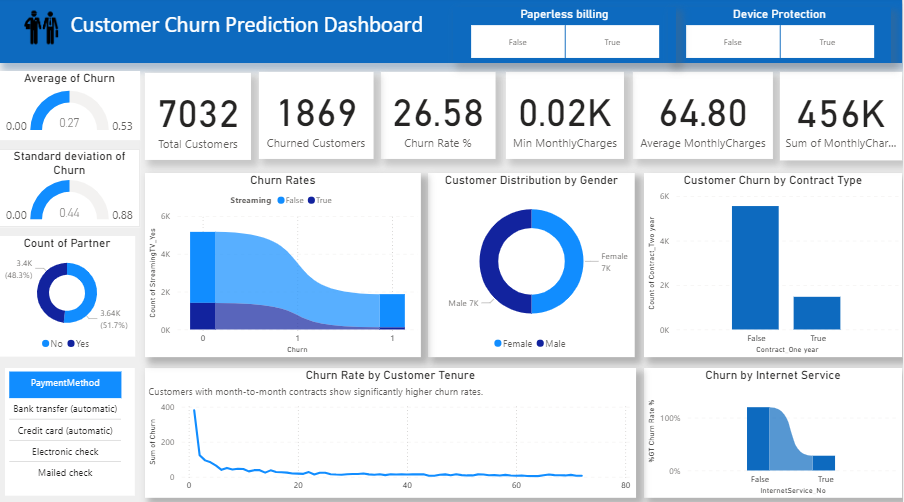

The page's visual inventory and layout, read from the dashboard file:
{"tool":"powerbi","page":{"name":"Page 2","canvas":[1280,720],"ordinal":0},"visuals":[{"type":"shape","box":[0,0,1279.8,93.5],"z":0},{"type":"card","fields":{"Values":["cleaned_churn_data.Churn Rate %"]},"box":[541.4,106.3,161.6,123.3],"z":1000},{"type":"card","fields":{"Values":["Avg(cleaned_churn_data.MonthlyCharges)"]},"box":[898.6,106.3,198.4,123.3],"z":2000},{"type":"card","fields":{"Values":["cleaned_churn_data.Total Customers"]},"box":[206.9,107.7,150.2,123.3],"z":3000},{"type":"card","fields":{"Values":["Sum(cleaned_churn_data.Churn)"]},"box":[369.2,106.5,161.7,123.3],"z":4000},{"type":"donutChart","title":"Customer Distribution by Gender","fields":{"Y":["cleaned_churn_data.Total Customers"],"Category":["WA_Fn-UseC_-Telco-Customer-Churn.gender"]},"box":[608,249.4,293.4,260.8],"z":5000},{"type":"lineClusteredColumnComboChart","title":"Customer Churn by Contract Type","fields":{"Category":["cleaned_churn_data.Contract_One year"],"Y":["CountNonNull(cleaned_churn_data.Contract_Two year)"]},"box":[914.2,249.4,365.7,260.8],"z":6000},{"type":"ribbonChart","title":"Churn by Internet Service","fields":{"Category":["cleaned_churn_data.InternetService_No"],"Y":["cleaned_churn_data.Churn Rate %"]},"box":[914.2,525.8,365.7,184.3],"z":7000},{"type":"lineChart","title":"Churn Rate by Customer Tenure","fields":{"Category":["cleaned_churn_data.tenure"],"Y":["Sum(cleaned_churn_data.Churn)"]},"box":[206.9,525.8,695.9,184.3],"z":8000},{"type":"ribbonChart","title":"Churn Rates","fields":{"Category":["cleaned_churn_data.Churn"],"Series":["cleaned_churn_data.StreamingMovies_No internet service"],"Y":["CountNonNull(cleaned_churn_data.StreamingTV_Yes)"]},"box":[206.9,249.4,391.2,260.8],"z":9000},{"type":"card","fields":{"Values":["Sum(cleaned_churn_data.MonthlyCharges)"]},"box":[1106.9,106.3,172.9,124.7],"z":10000},{"type":"card","fields":{"Values":["Min(cleaned_churn_data.MonthlyCharges)"]},"box":[718.6,106.3,167.2,123.3],"z":11000},{"type":"gauge","fields":{"Y":["Avg(cleaned_churn_data.Churn)"]},"box":[0,104.9,199.8,97.8],"z":12000},{"type":"gauge","fields":{"Y":["Sum(cleaned_churn_data.Churn)"]},"box":[0,215.4,199.8,110.6],"z":13000},{"type":"slicer","title":"Device Protection ","fields":{"Values":["cleaned_churn_data.DeviceProtection_Yes"]},"box":[948.2,14.2,316.1,79.4],"z":14000},{"type":"slicer","title":"Paperless billing","fields":{"Values":["cleaned_churn_data.PaperlessBilling_Yes"]},"box":[643.5,14.2,316.1,79.4],"z":15000},{"type":"textbox","box":[96.4,14.2,606.6,58.1],"z":16000},{"type":"image","box":[19.8,14.2,80.8,58.1],"z":17000},{"type":"tableEx","fields":{"Values":["WA_Fn-UseC_-Telco-Customer-Churn.PaymentMethod"]},"box":[8.5,525.8,184.3,181.4],"z":19000},{"type":"donutChart","title":"Count of Partner ","fields":{"Category":["WA_Fn-UseC_-Telco-Customer-Churn.Partner"],"Y":["CountNonNull(WA_Fn-UseC_-Telco-Customer-Churn.Partner)"]},"box":[0,338.7,192.8,171.5],"z":19002}]}

Visuals, with their boxes in screenshot pixels (x1, y1, x2, y2), scaled from the page's 1280x720 canvas onto the 904x502 screenshot:
shape: <region>0, 0, 903, 65</region>
card - cleaned_churn_data.Churn Rate %: <region>382, 74, 496, 160</region>
card - Avg(cleaned_churn_data.MonthlyCharges): <region>635, 74, 775, 160</region>
card - cleaned_churn_data.Total Customers: <region>146, 75, 252, 161</region>
card - Sum(cleaned_churn_data.Churn): <region>261, 74, 375, 160</region>
"Customer Distribution by Gender" donutChart: <region>429, 174, 637, 356</region>
"Customer Churn by Contract Type" lineClusteredColumnComboChart: <region>646, 174, 903, 356</region>
"Churn by Internet Service" ribbonChart: <region>646, 367, 903, 495</region>
"Churn Rate by Customer Tenure" lineChart: <region>146, 367, 638, 495</region>
"Churn Rates" ribbonChart: <region>146, 174, 422, 356</region>
card - Sum(cleaned_churn_data.MonthlyCharges): <region>782, 74, 903, 161</region>
card - Min(cleaned_churn_data.MonthlyCharges): <region>508, 74, 626, 160</region>
gauge - Avg(cleaned_churn_data.Churn): <region>0, 73, 141, 141</region>
gauge - Sum(cleaned_churn_data.Churn): <region>0, 150, 141, 227</region>
"Device Protection " slicer: <region>670, 10, 893, 65</region>
"Paperless billing" slicer: <region>454, 10, 678, 65</region>
textbox: <region>68, 10, 496, 50</region>
image: <region>14, 10, 71, 50</region>
tableEx - WA_Fn-UseC_-Telco-Customer-Churn.PaymentMethod: <region>6, 367, 136, 493</region>
"Count of Partner " donutChart: <region>0, 236, 136, 356</region>
